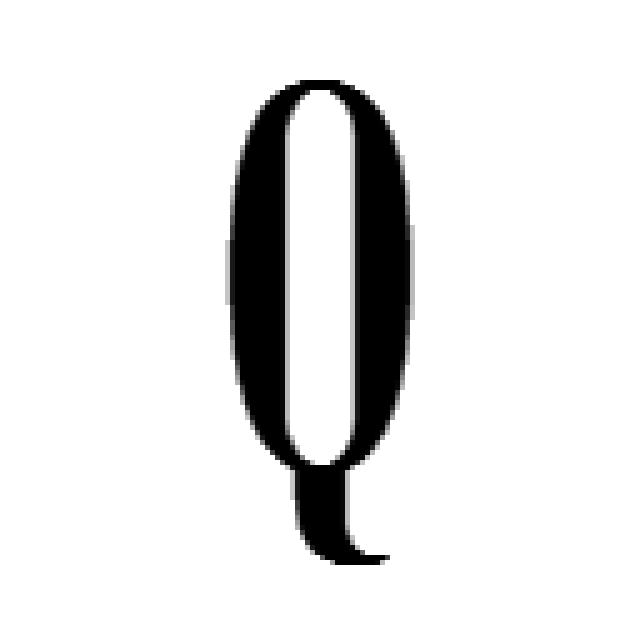Q: (215, 70, 420, 570)
